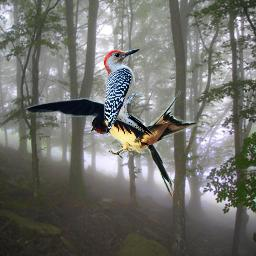Swallow: (22, 89, 230, 198)
Woodpecker: (99, 45, 158, 143)
